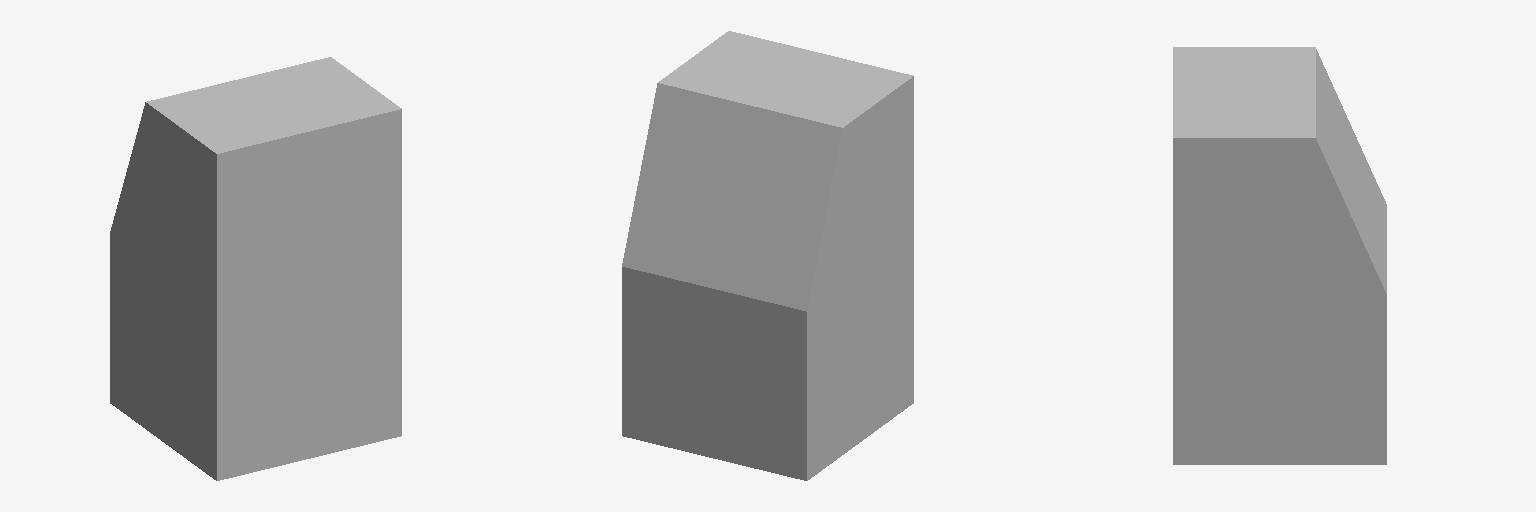
The model's file is feuwgviyuewf_-_converted.obj.
3 renders of one model, left to right at view 1: azimuth 30°, elevation 25°; view 2: azimuth 150°, elevation 25°; view 3: azimuth 270°, elevation 25°, orthographic.
Visible parts, largest first — view 1: cuboid; view 2: cuboid; view 3: cuboid.
Part boxes in pixels (x1,y1,x2,y2): cuboid: (110,57,401,480); cuboid: (622,31,913,480); cuboid: (1173,47,1386,464).
Bounding box in the file's own units: 1 × 1.69 × 1.